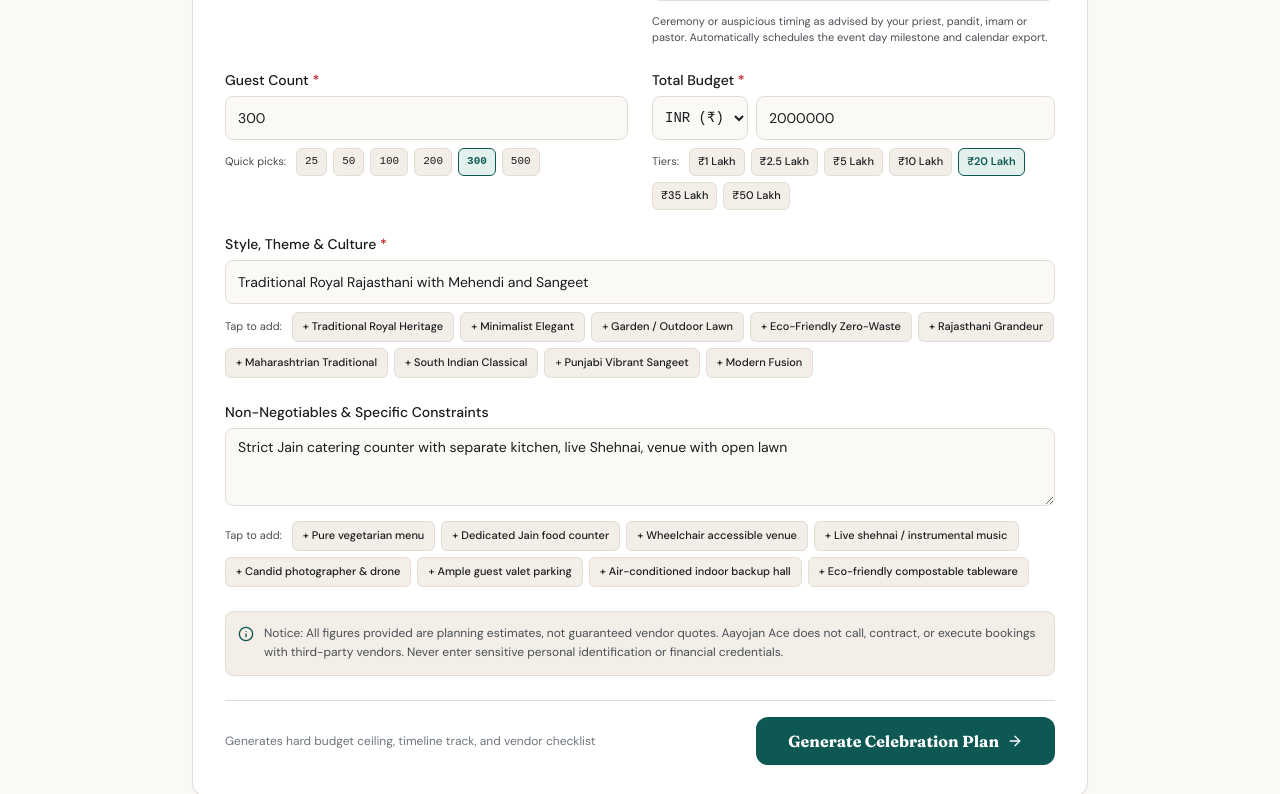
Test: IntakeForm Component › renders friendly positive error banner with Retry and Load Saved Example buttons on AI failure
(page scrolled)
Click the button "Generate Celebration Plan" at {"x": 906, "y": 740}, box top-left (756, 716), bottom-right (1055, 764)
(page scrolled)
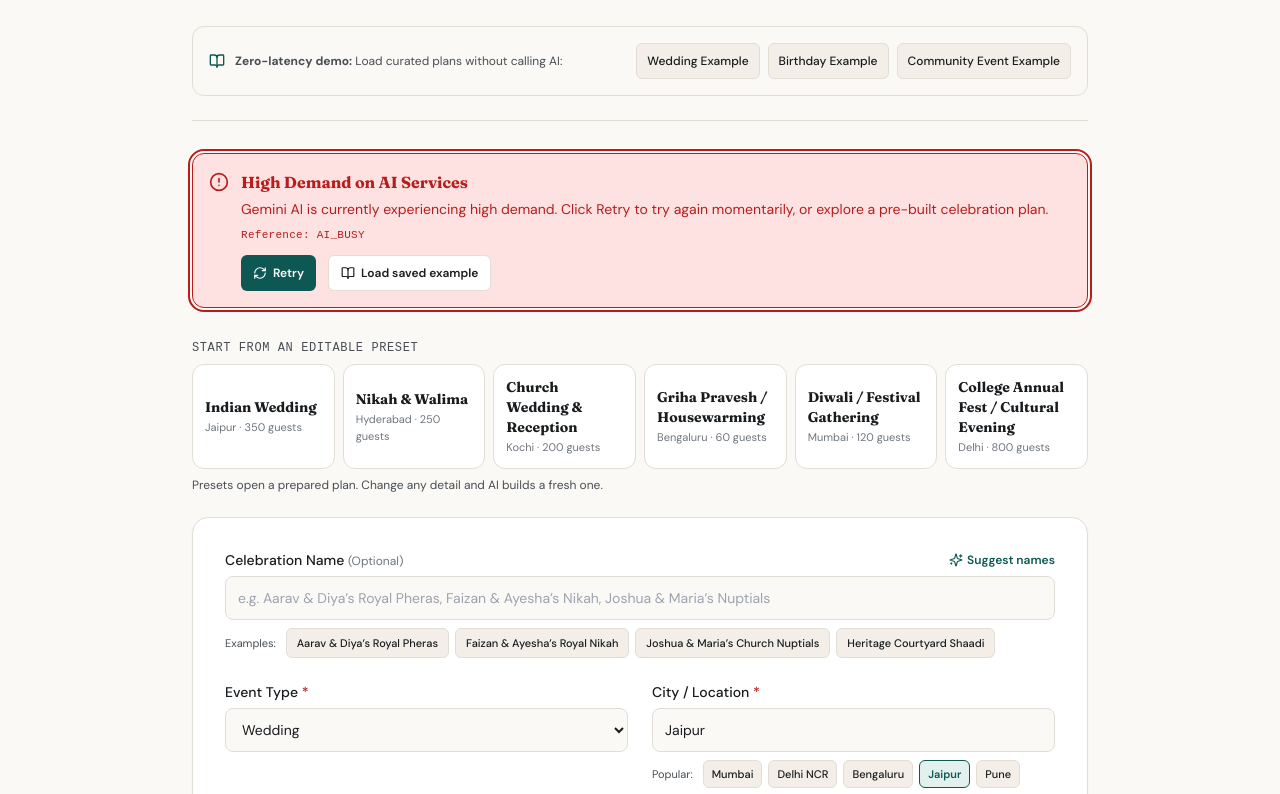
Expected: the message is shown, top-left (192, 153), bottom-right (1088, 308)
Expected: the heading "High Demand on AI Services" is shown, top-left (241, 172), bottom-right (468, 192)
Expected: the button with aria-label "Retry celebration planning" is shown, top-left (241, 255), bottom-right (316, 291)
